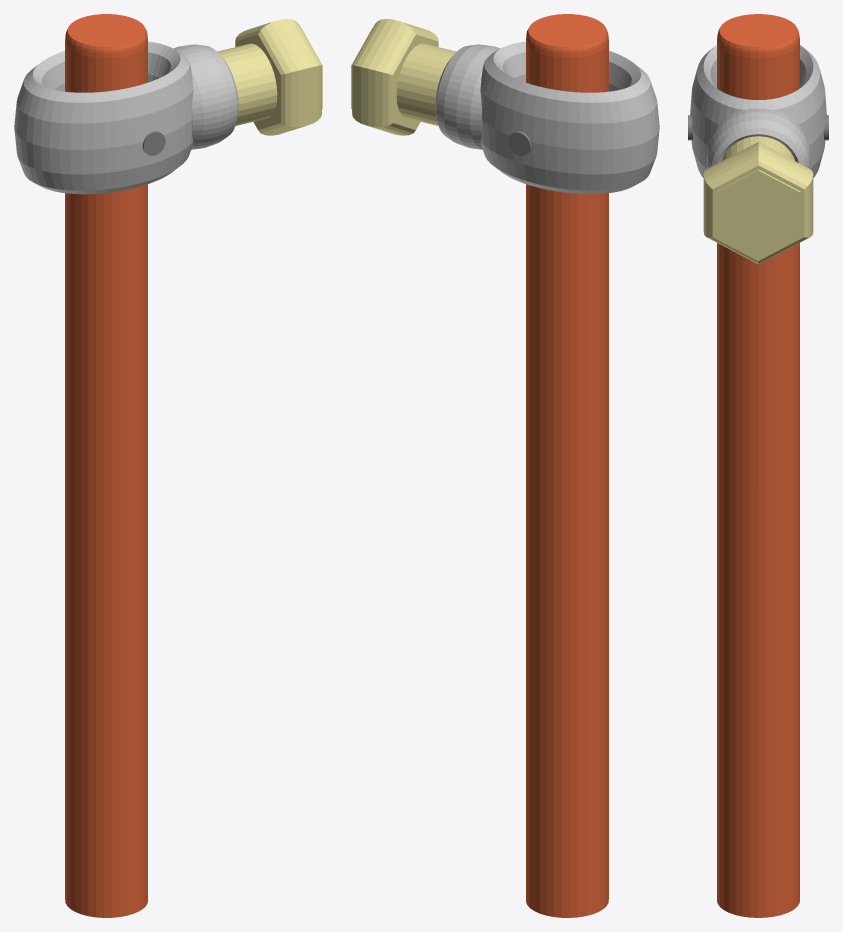
Rendered from grounding-point.fbx.
3 views of the same model, side by side, from view 1: azimuth 30°, elevation 25°; view 2: azimuth 150°, elevation 25°; view 3: azimuth 270°, elevation 25° (orthographic).
Visible parts, largest first — view 1: Cylinder, Torus.001, Cylinder.001; view 2: Cylinder, Torus.001, Cylinder.001; view 3: Cylinder, Cylinder.001, Torus.001.
Boxes of the visible parts, left/top/right/bottom form: Cylinder: left=65, top=14, right=147, bottom=917; Torus.001: left=14, top=41, right=238, bottom=194; Cylinder.001: left=217, top=19, right=322, bottom=135; Cylinder: left=526, top=14, right=608, bottom=917; Torus.001: left=435, top=41, right=659, bottom=194; Cylinder.001: left=351, top=19, right=456, bottom=135; Cylinder: left=717, top=14, right=799, bottom=917; Cylinder.001: left=703, top=136, right=813, bottom=264; Torus.001: left=690, top=45, right=826, bottom=177.
Bounding box in the file's own units: 21.02 × 62.2 × 9.13.
